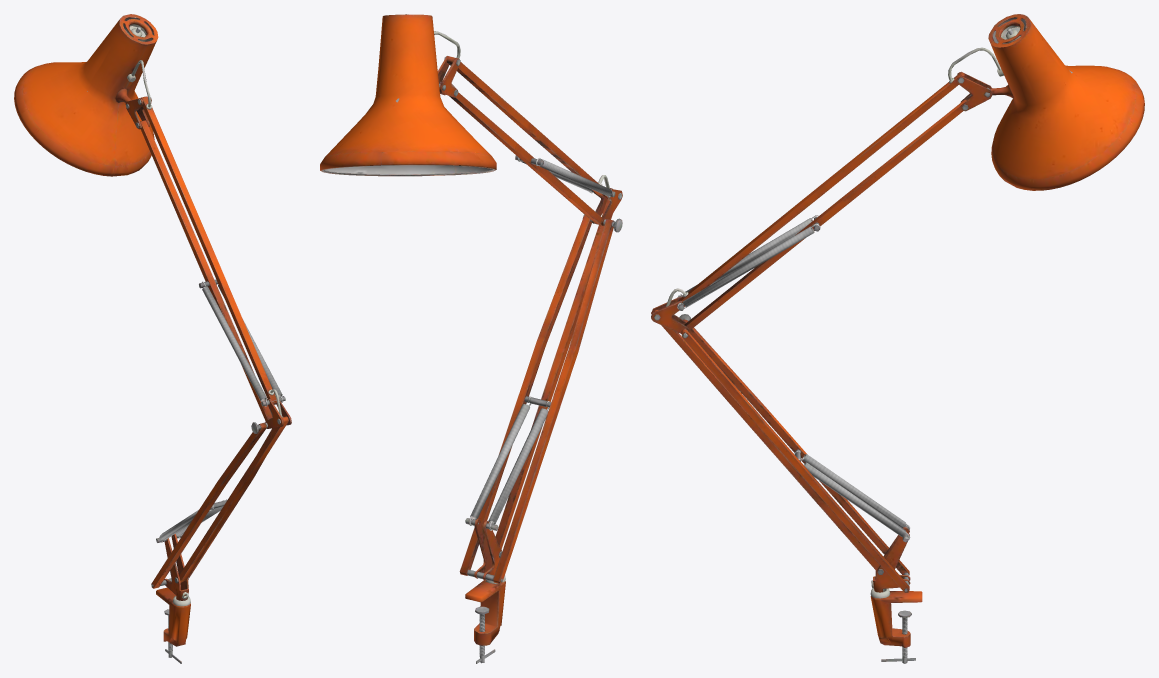
File: desk_lamp_arm_01.glb
The picture shows the model from 3 angles, left to right: view 1: azimuth 30°, elevation 25°; view 2: azimuth 150°, elevation 25°; view 3: azimuth 270°, elevation 25°; orthographic projection. The views are drawn at different scales.
Parts seen in each view (by area): view 1: desk_lamp_arm_01; view 2: desk_lamp_arm_01; view 3: desk_lamp_arm_01.
Part boxes in pixels (x1,y1,x2,y2): desk_lamp_arm_01: (14, 14, 291, 663); desk_lamp_arm_01: (320, 14, 622, 663); desk_lamp_arm_01: (651, 14, 1144, 663).
Bounding box in the file's own units: 0.2017 × 0.8926 × 0.6139.
2 materials, 2 textured.
